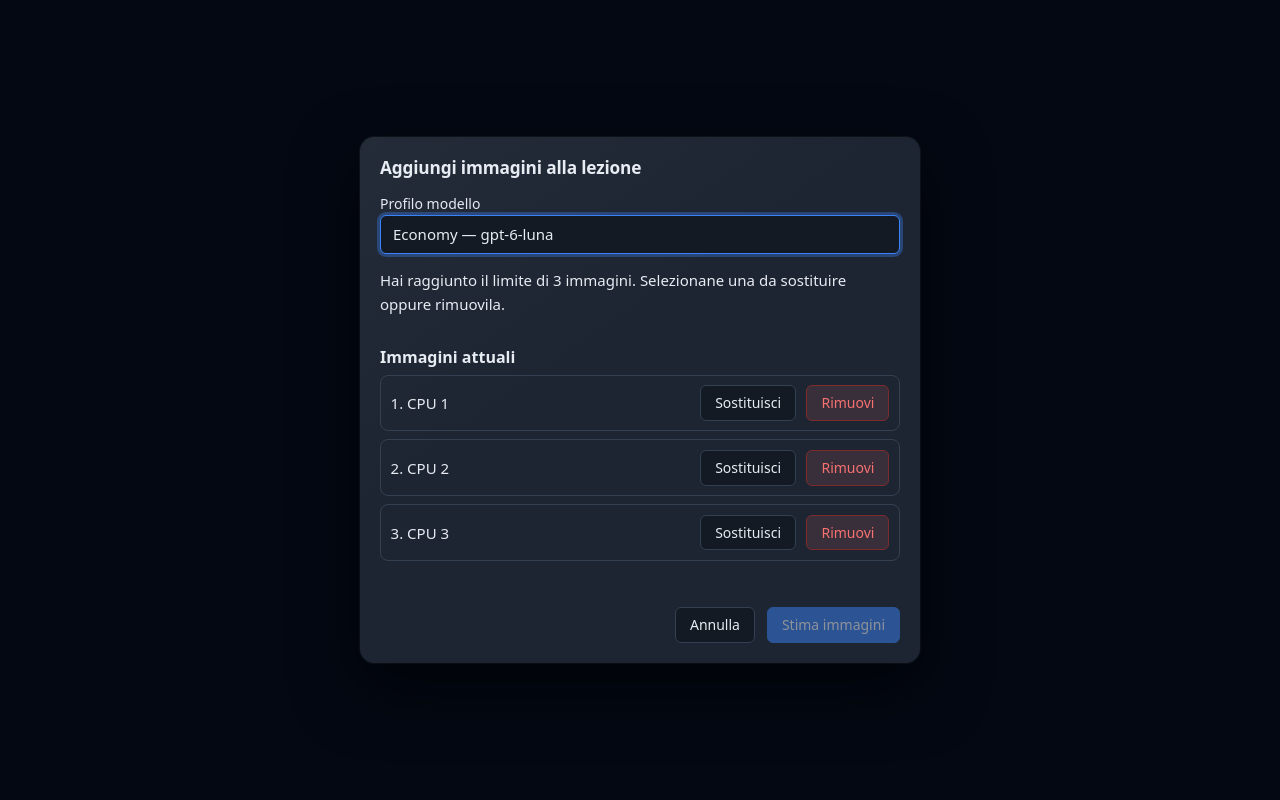
Test: LessonMultiVisualWorkflowDialog › consente sostituzione a galleria piena senza controlli di riordino
Expected: the button "Stima immagini" is disabled, left=767, top=607, right=900, bottom=643
Click the button "Sostituisci" in the row of "CPU 2": (748, 468) left=700, top=450, right=796, bottom=486
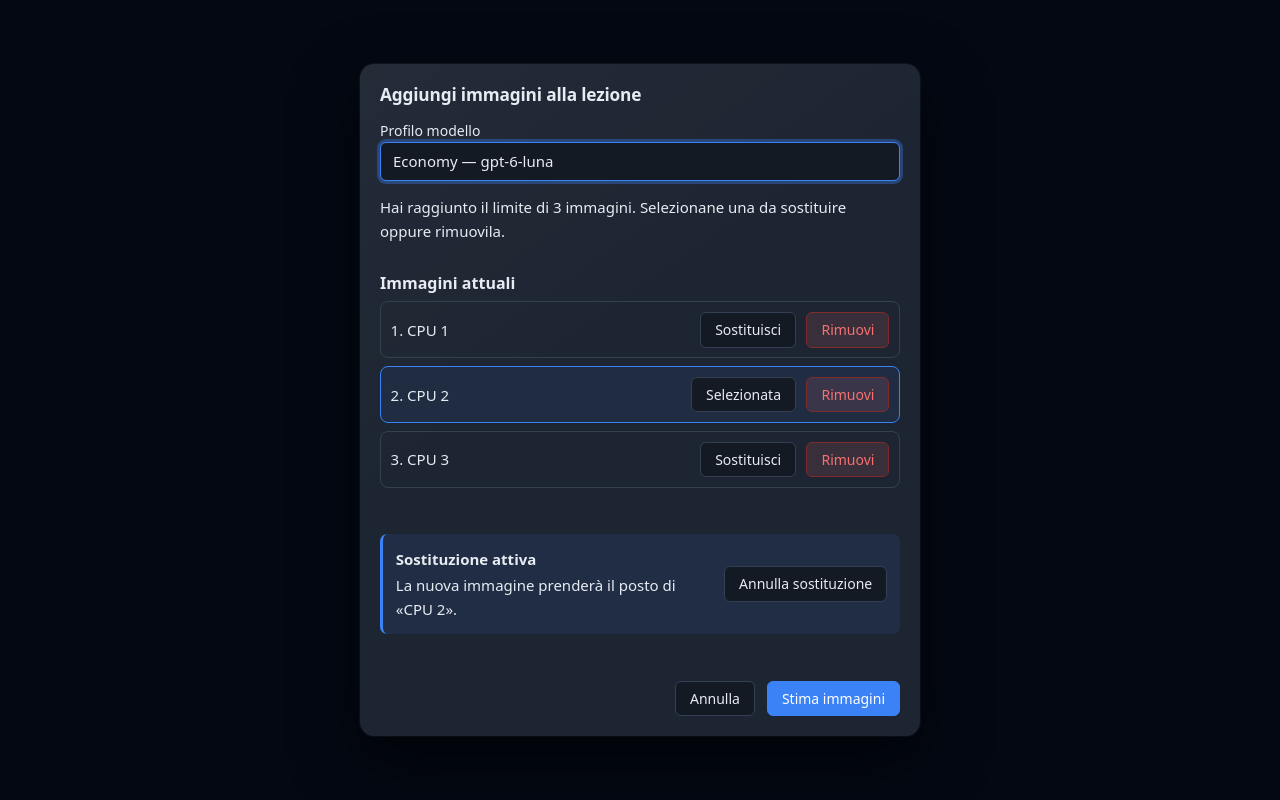
Expected: the text "Sostituzione attiva" is shown, left=396, top=549, right=536, bottom=569
Expected: the text "prenderà il posto di «CPU 2»" is shown, left=396, top=547, right=708, bottom=621
Click the button "Stima immagini": (833, 698) left=767, top=681, right=900, bottom=716
(page scrolled)
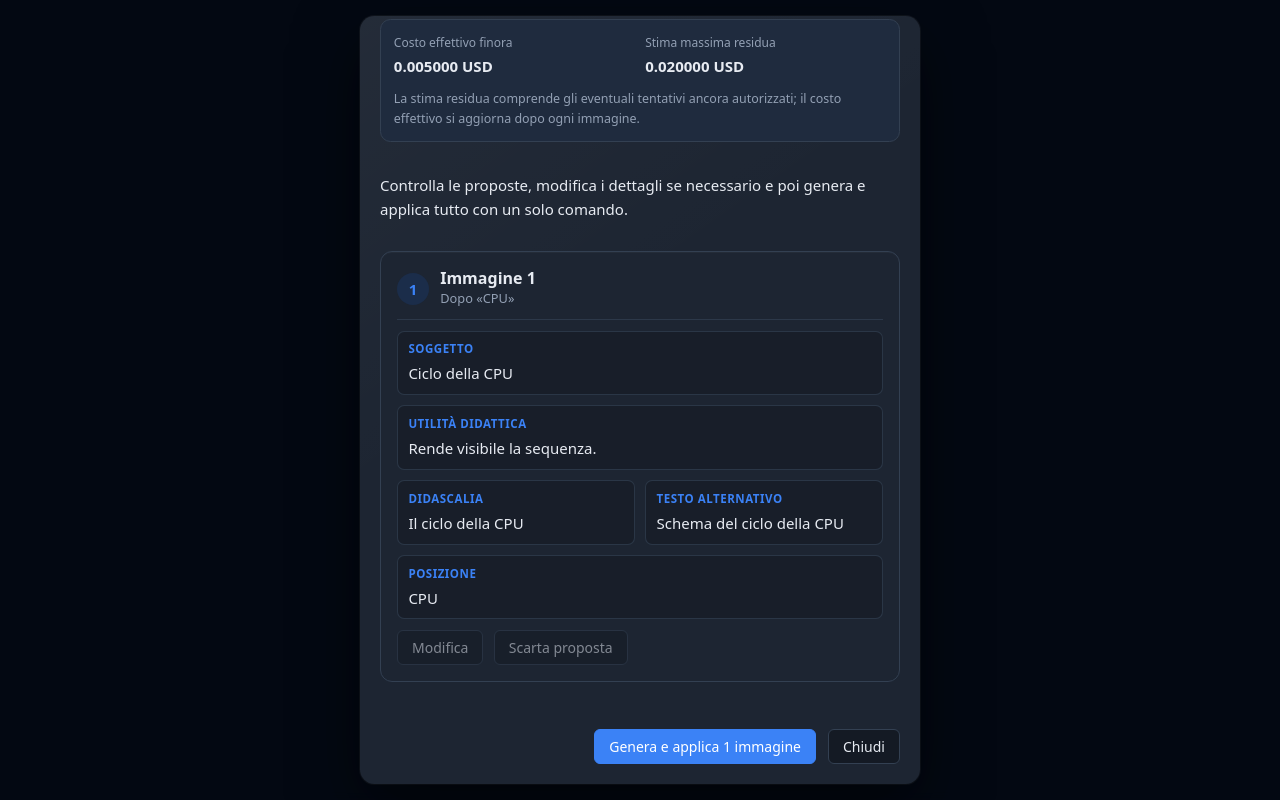
Expected: the button "Genera e applica 1 immagine" is shown, left=594, top=729, right=816, bottom=764
